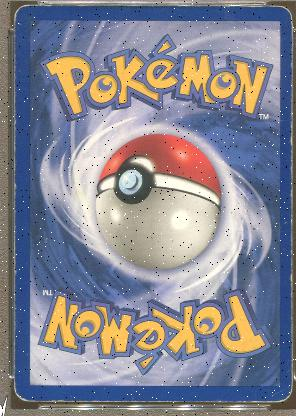Card: (10, 0, 294, 408)
Corner Wear: (11, 4, 52, 28), (12, 376, 39, 404), (273, 382, 291, 402), (273, 4, 293, 18)
Edge Wear: (14, 32, 16, 342), (289, 101, 292, 280), (288, 216, 291, 382), (49, 400, 229, 402), (289, 20, 291, 102), (209, 5, 266, 7), (231, 400, 279, 402)
Scratch: (249, 226, 253, 230), (282, 221, 285, 225), (266, 100, 269, 103), (189, 242, 191, 246), (215, 141, 218, 143), (181, 172, 183, 174), (197, 192, 199, 194), (221, 131, 222, 133), (222, 206, 223, 208)
